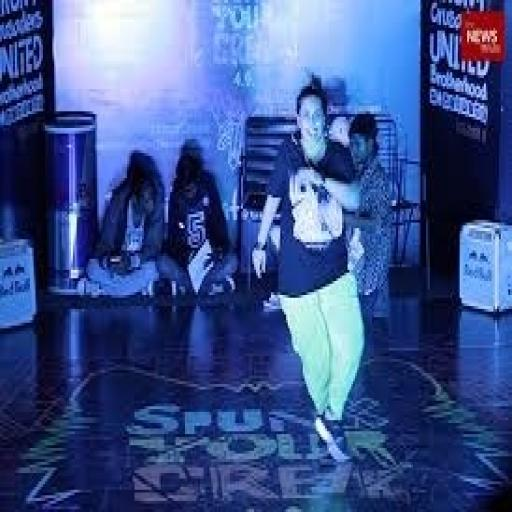dancing: (249, 78, 370, 467)
